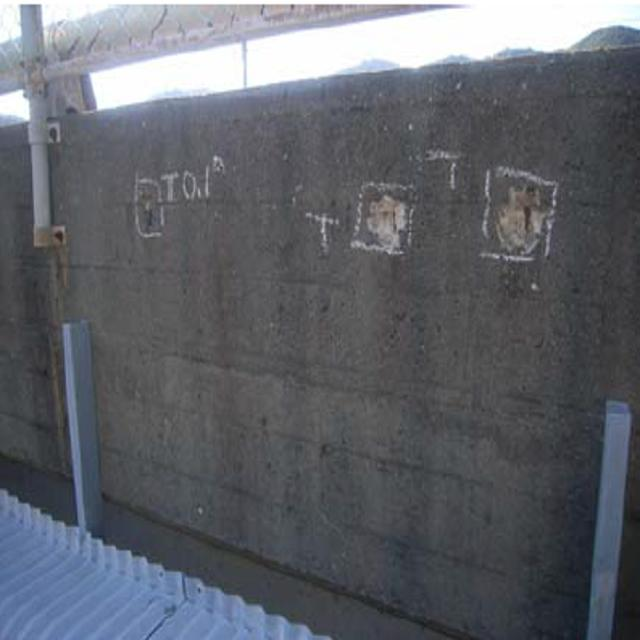spalling: (483, 167, 554, 267), (349, 174, 410, 260)
